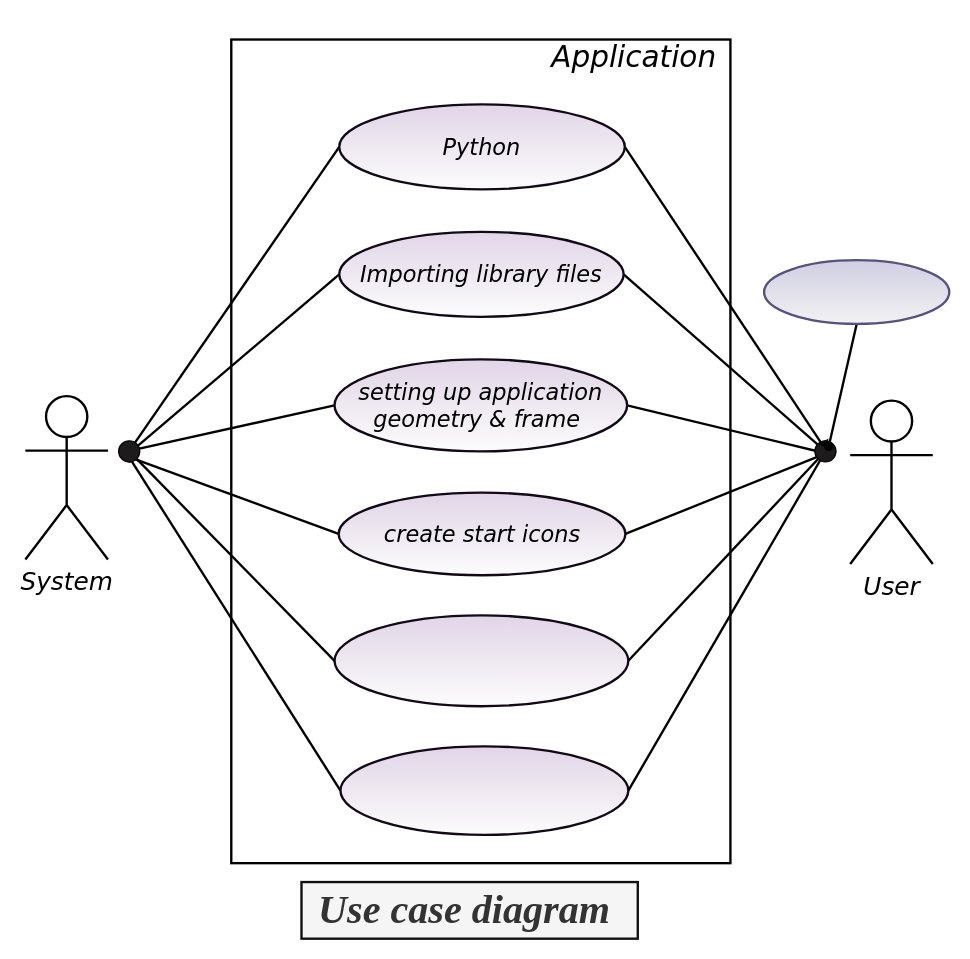
The diagram is 970 pixels wide and 959 high, and some of its shapes have lost their labels. The centre of each missing label's shape, as x and y in pixels:
creating start command code: the point at 481,660
End menu Bar code: the point at 484,790
Play Music: the point at 856,291
